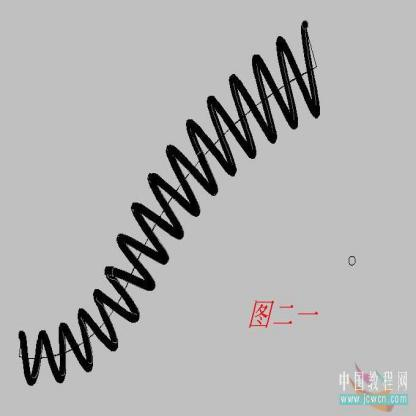FOD: (15, 16, 324, 387)
